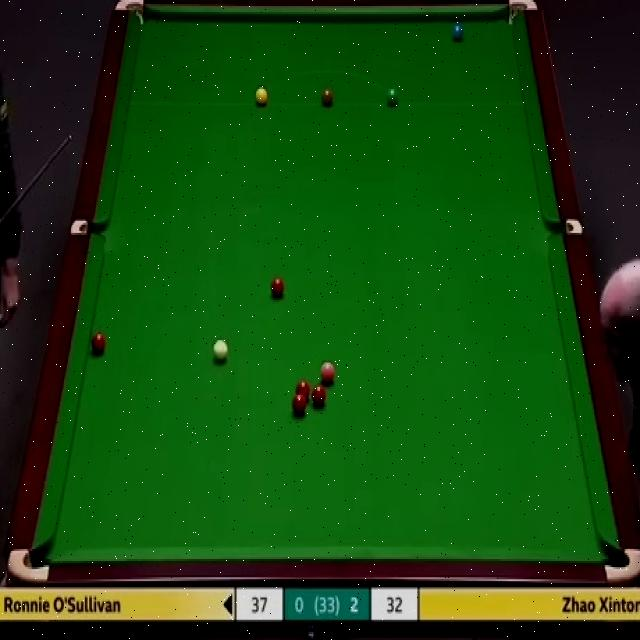blue-ball: (450, 18, 466, 43)
brown-ball: (321, 88, 334, 109)
green-ball: (386, 87, 400, 109)
pink-ball: (317, 361, 336, 386)
red-ball: (270, 275, 286, 300), (310, 384, 328, 406), (90, 331, 105, 356), (291, 394, 307, 417), (294, 380, 312, 400)
white-ball: (212, 338, 230, 367)
yellow-ball: (255, 86, 268, 108)
